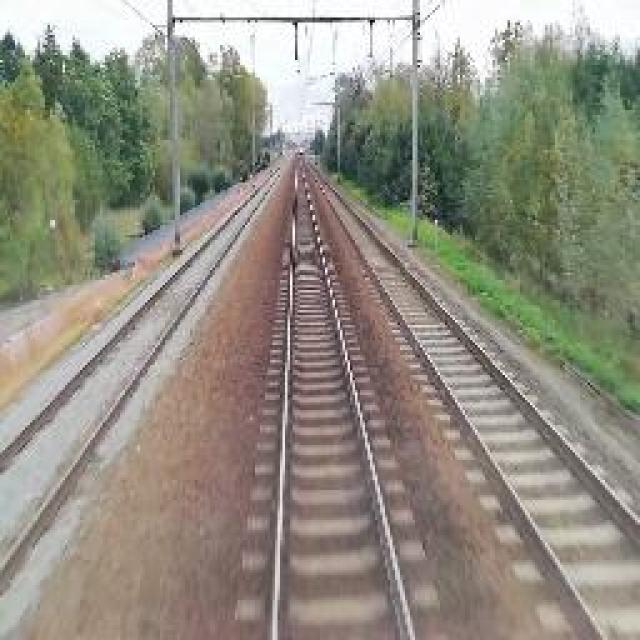rail: (236, 152, 460, 640)
